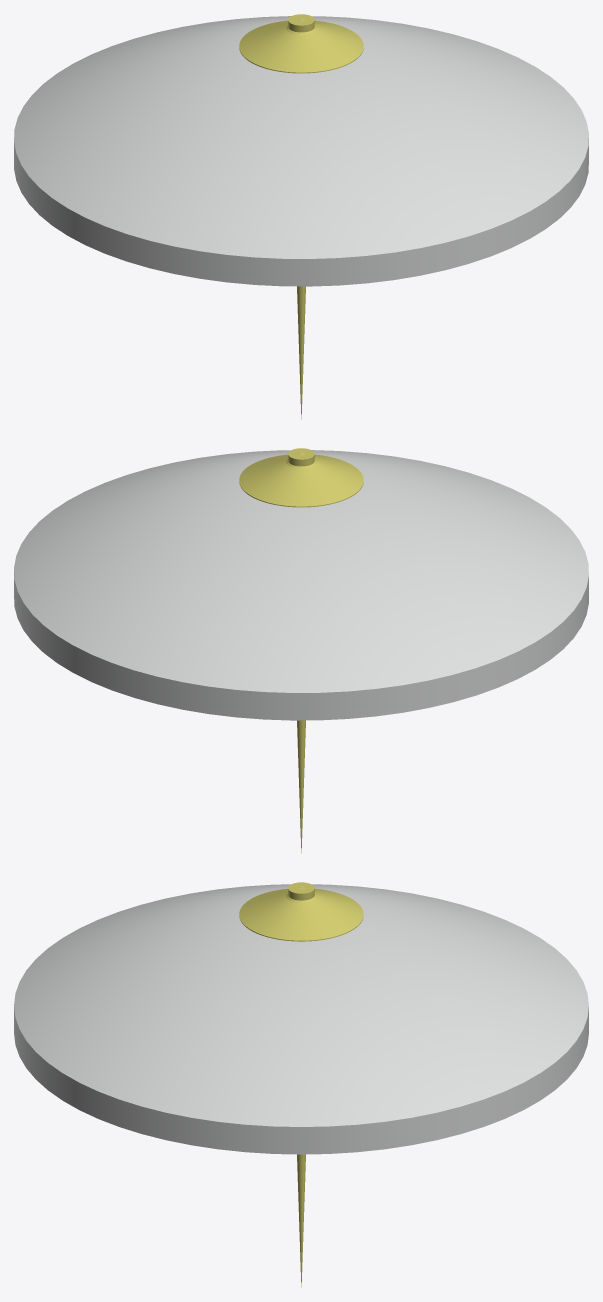
The picture shows the model from 3 angles, top to bottom: view 1: azimuth 30°, elevation 25°; view 2: azimuth 150°, elevation 25°; view 3: azimuth 270°, elevation 25°; orthographic projection.
Visible parts, largest first — view 1: parasol; view 2: parasol; view 3: parasol.
Boxes of the visible parts, bbox=[...] form: parasol: bbox=[14, 14, 588, 419]; parasol: bbox=[14, 448, 588, 853]; parasol: bbox=[14, 882, 588, 1287].
Bounding box in the file's own units: 1.8 × 1.39 × 1.8.
